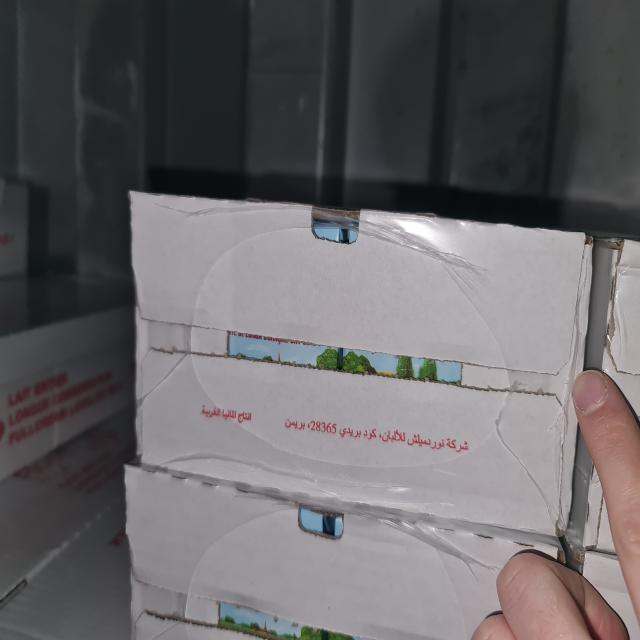Carton: (131, 191, 589, 537), (126, 469, 556, 640)
